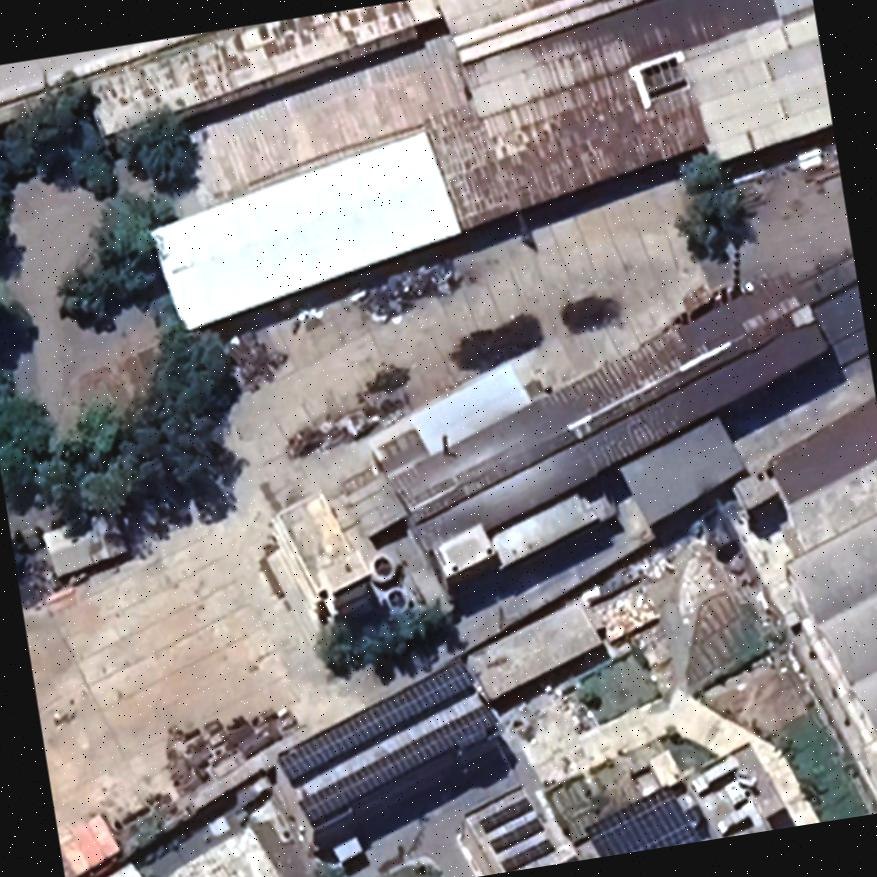Solarpanel: (271, 649, 482, 789), (293, 697, 509, 832), (583, 784, 704, 856), (474, 796, 536, 836), (487, 816, 546, 854), (495, 838, 555, 872)
